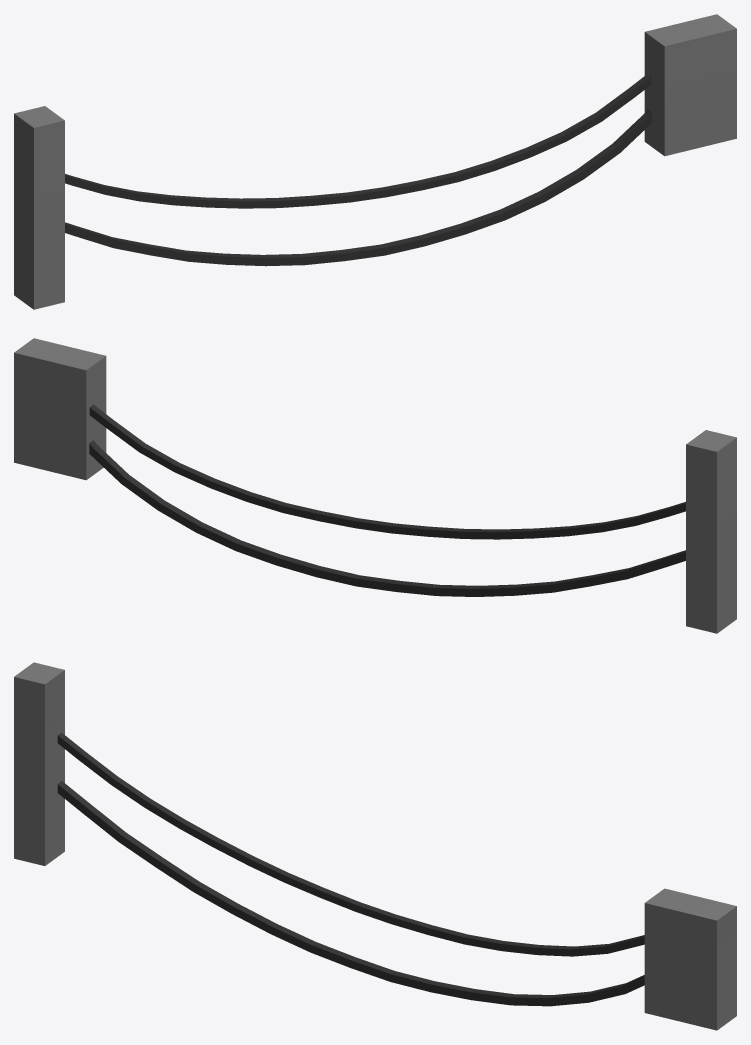
The model's file is B02_cable_murale_2.fbx.
The picture shows the model from 3 angles, top to bottom: view 1: azimuth 30°, elevation 25°; view 2: azimuth 150°, elevation 25°; view 3: azimuth 330°, elevation 25°; orthographic projection.
Visible parts, largest first — view 1: B02_cable_murale_2; view 2: B02_cable_murale_2; view 3: B02_cable_murale_2.
Boxes of the visible parts, x1,y1,x2,y2 form: B02_cable_murale_2: [14, 14, 736, 309]; B02_cable_murale_2: [14, 338, 736, 633]; B02_cable_murale_2: [14, 662, 736, 1030].
Size of the model in its own units: 721 by 222 by 35.33.
